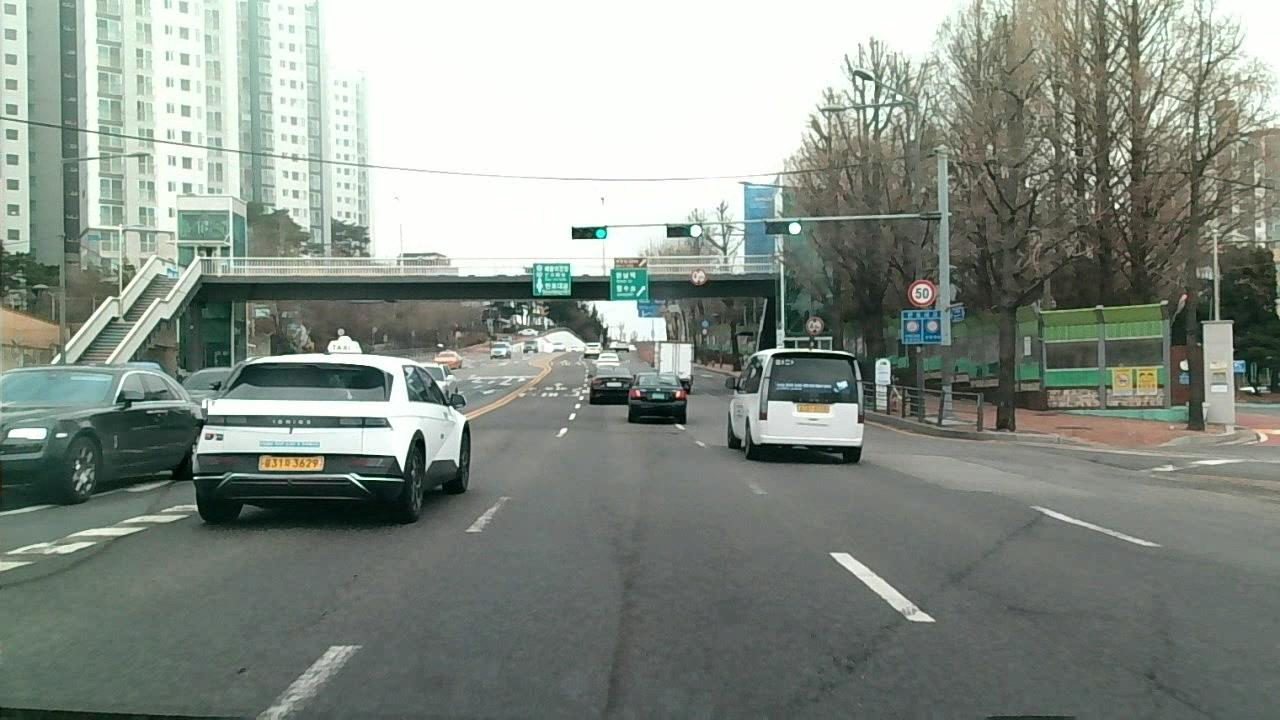banner: (803, 601, 918, 697), (944, 508, 1042, 605), (1135, 671, 1209, 720)
